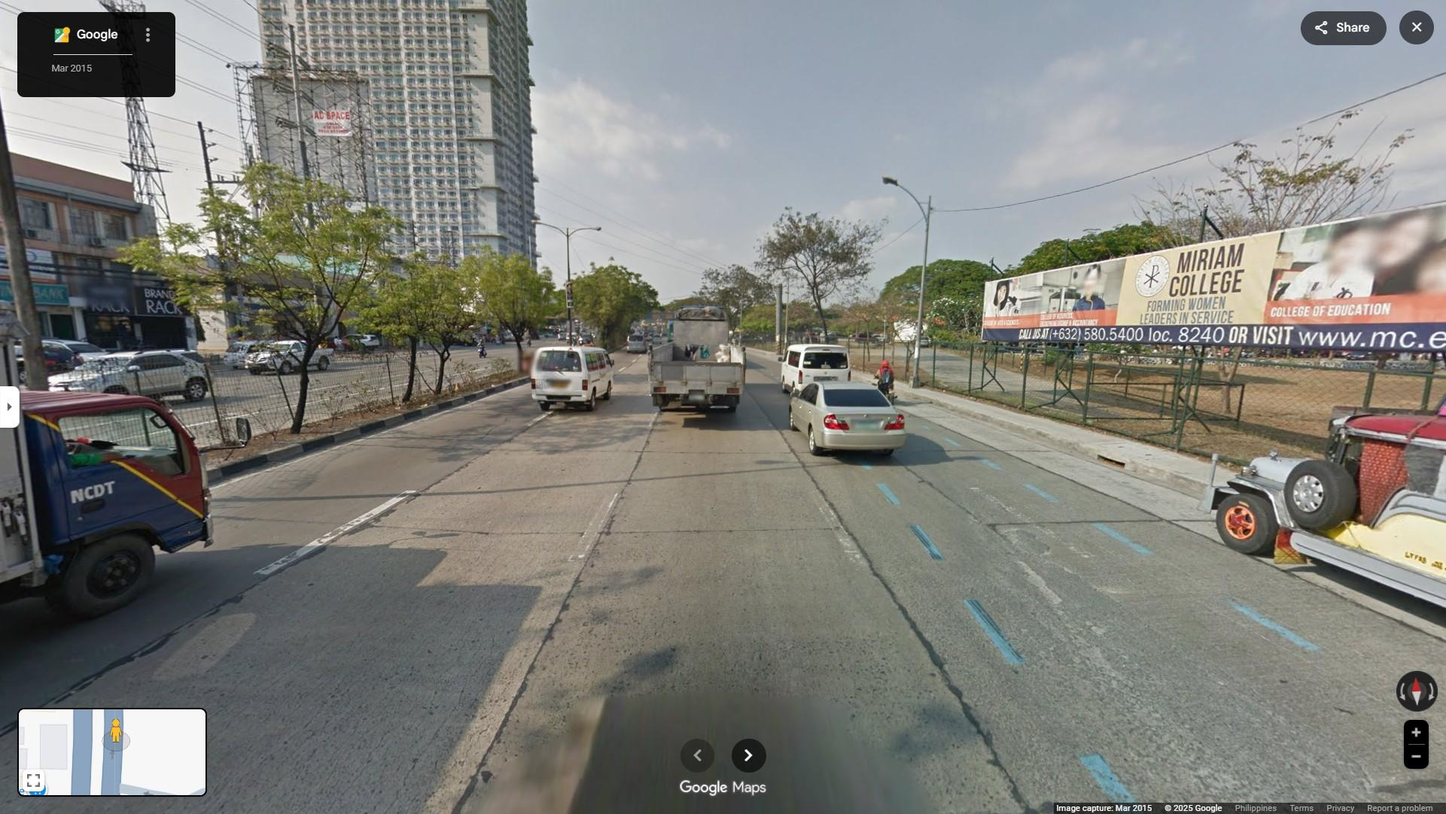pedestrian: (333, 335, 343, 357)
